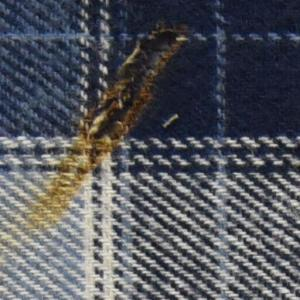Damage: (75, 23, 189, 178)
Oil Stain: (1, 20, 192, 264)
